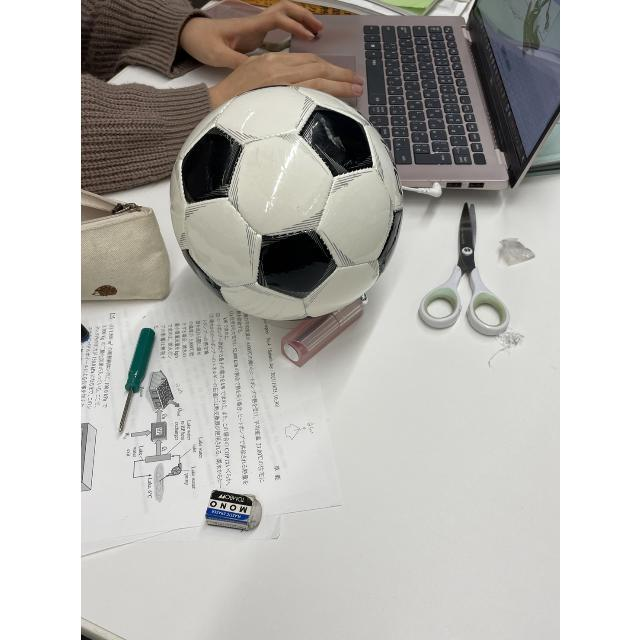ball: (168, 86, 400, 322)
